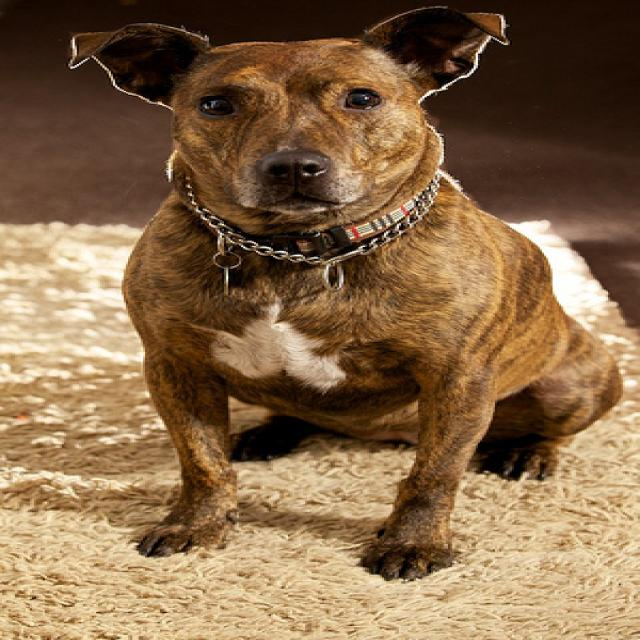dog-staffordshire_bull_terrier: (53, 1, 634, 590)
